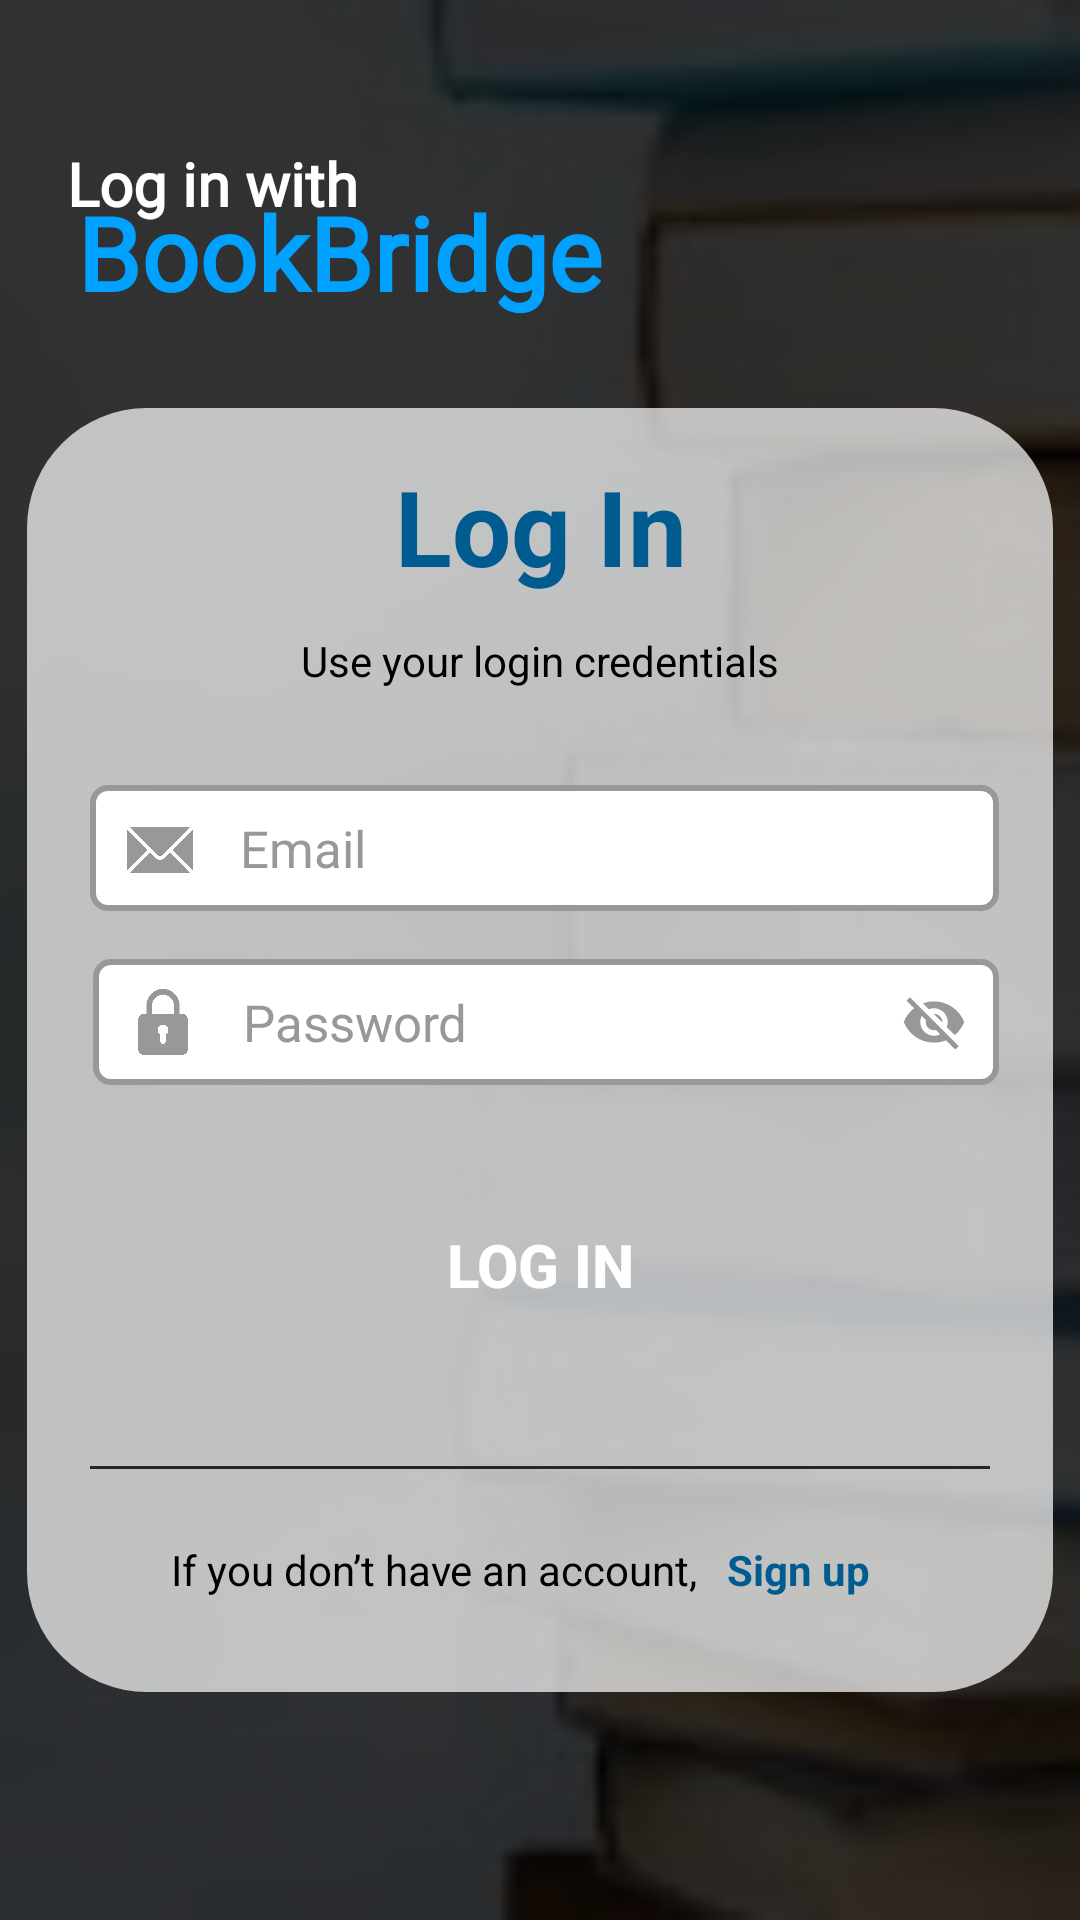

Named icons in this screenshot (1080 × 1920) and their centers, (x=x, y=y):
visibility off: (x=934, y=1023)
